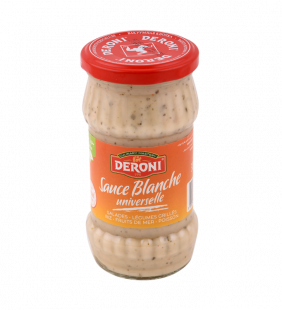Promotion: (74, 24, 205, 286)
